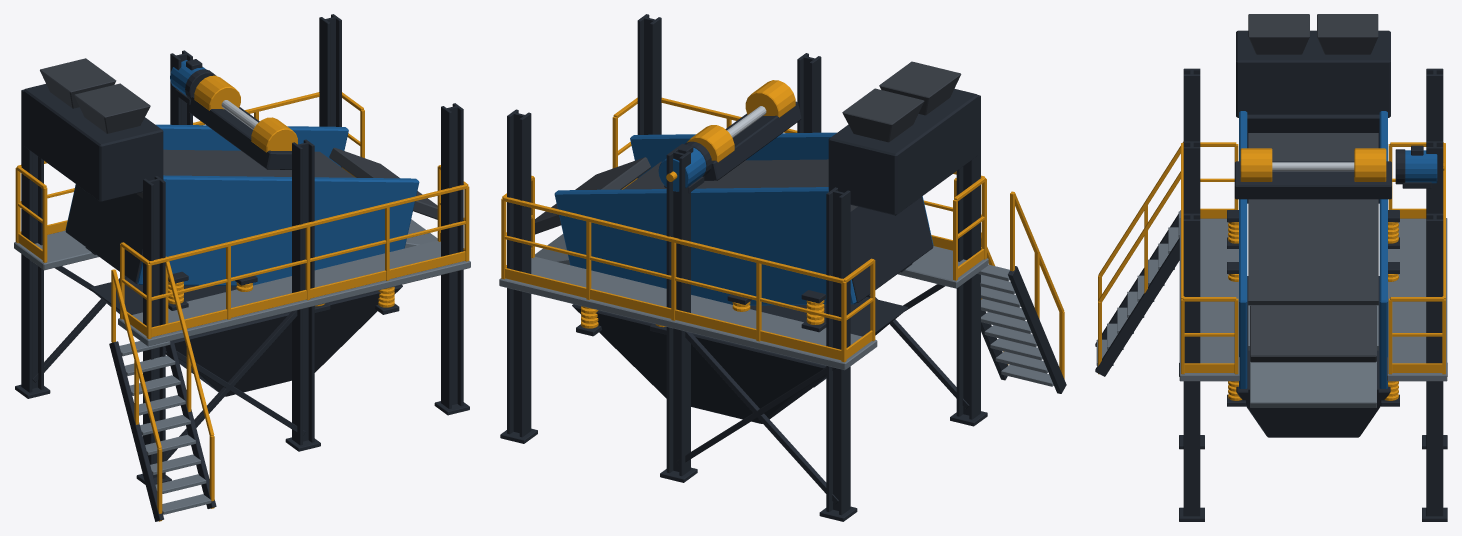
File: central_sizing_screen_ss101.glb
The picture shows the model from 3 angles, left to right: view 1: azimuth 30°, elevation 25°; view 2: azimuth 150°, elevation 25°; view 3: azimuth 270°, elevation 25°; orthographic projection. The views are drawn at different scales.
Parts seen in each view (by area): view 1: SS101_BackPlate; view 2: SS101_BackPlate; view 3: SS101_BackPlate.
Boxes of the visible parts, bbox=[...] form: SS101_BackPlate: bbox=[14, 14, 470, 521]; SS101_BackPlate: bbox=[499, 14, 1066, 521]; SS101_BackPlate: bbox=[1095, 14, 1447, 521].
Size of the model in its own units: 5.11 by 4.58 by 4.21.
Materials: 1 (1 with a texture image).
